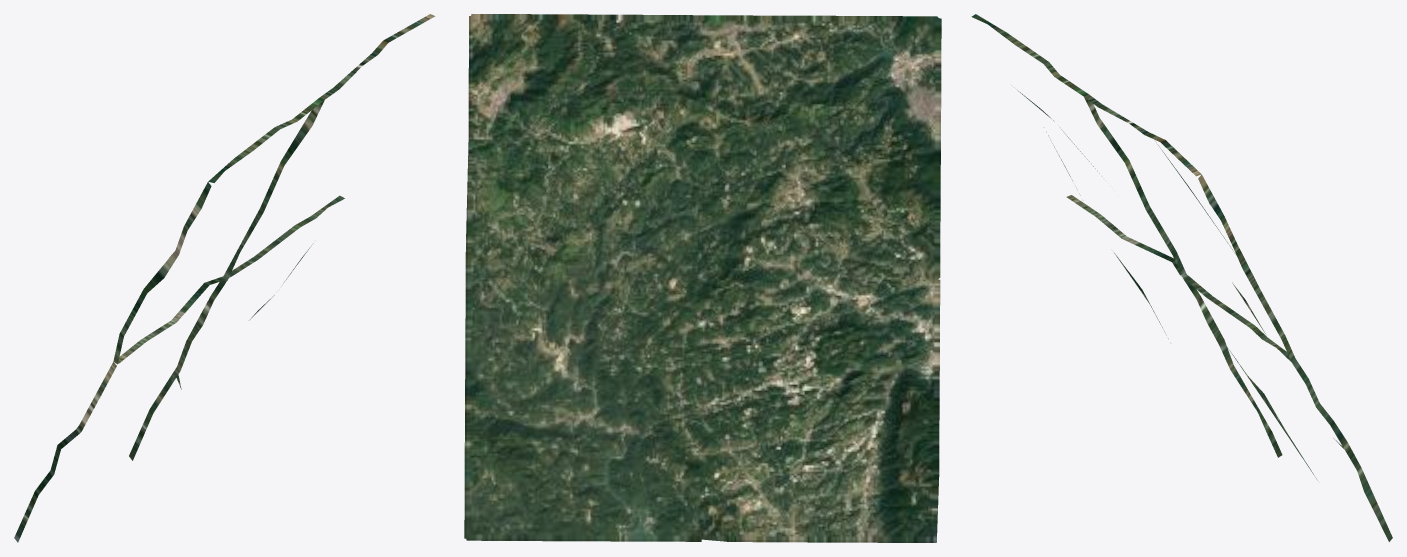
3 renders of one model, left to right at view 1: azimuth 30°, elevation 25°; view 2: azimuth 150°, elevation 25°; view 3: azimuth 270°, elevation 25°, orthographic. The views are drawn at different scales.
Bounding box in the file's own units: 39335 × 35987 × 33133.
1 material, 1 textured.
